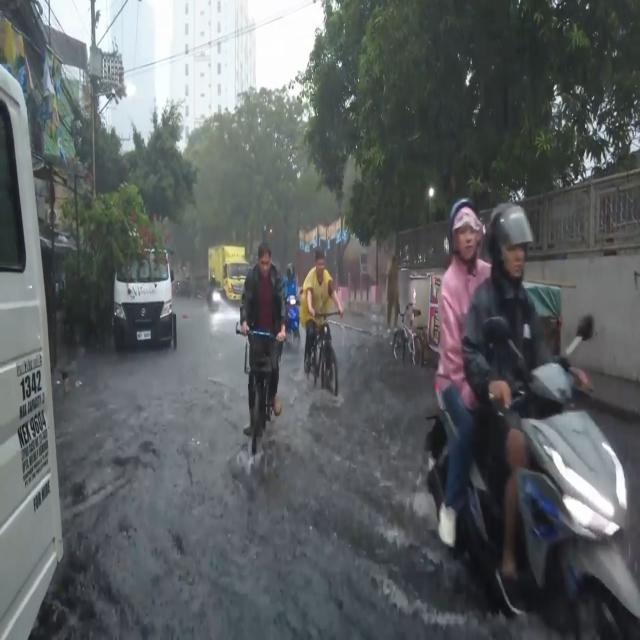invalid: (444, 195, 480, 242)
